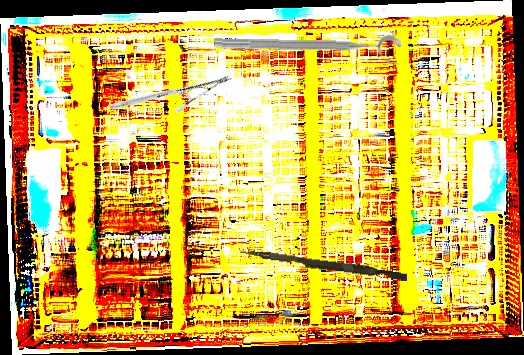Fixation Ring: (213, 32, 402, 67)
Needle Holder: (108, 31, 233, 154)
Pusher: (238, 248, 409, 282)
